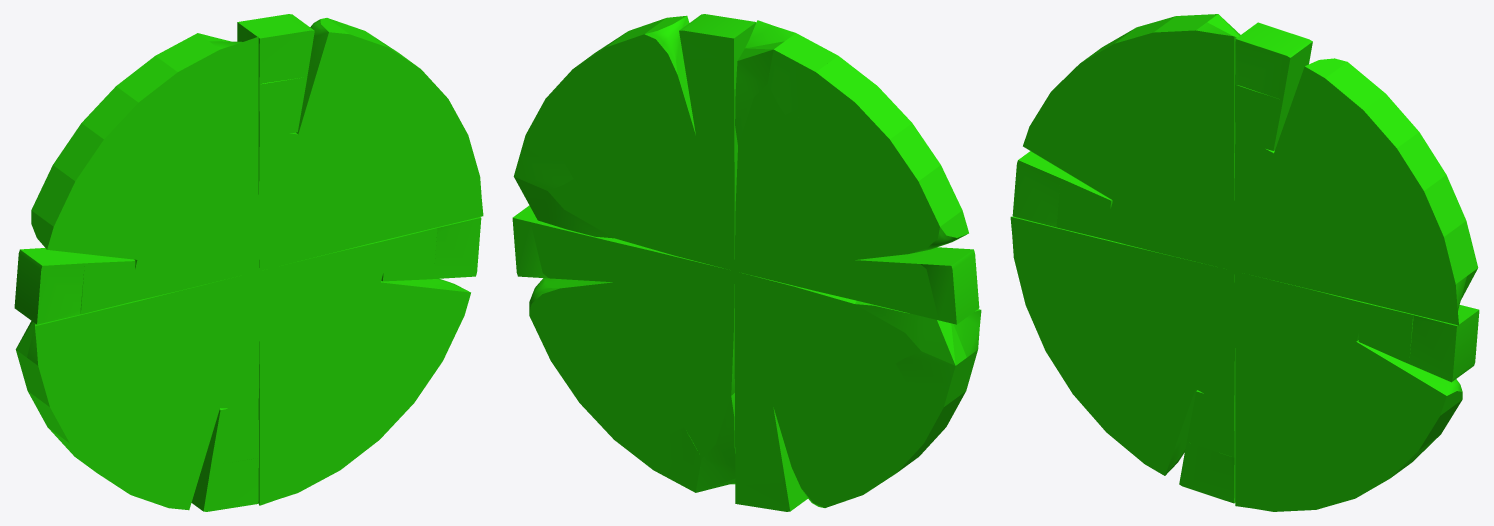
Rendered from diana_fbx_vr.fbx.
3 views of the same model, side by side, from view 1: azimuth 30°, elevation 25°; view 2: azimuth 150°, elevation 25°; view 3: azimuth 330°, elevation 25° (orthographic).
Visible parts, largest first — view 1: Cylinder.003, Cylinder.021, Cylinder.010, Cylinder.028, Cylinder.004, Cylinder.073, Cylinder.026, Cylinder.029, Cylinder.020, Cylinder.048, Cylinder.024, Cylinder.068 (+72 smaller); view 2: Cylinder.026, Cylinder.015, Cylinder.021, Cylinder.039, Cylinder.082, Cylinder.059, Cylinder.010, Cylinder.020, Cylinder.003, Cylinder.050, Cylinder.091, Cylinder.048 (+80 smaller); view 3: Cylinder.028, Cylinder.065, Cylinder.004, Cylinder.072, Cylinder.029, Cylinder.070, Cylinder.010, Cylinder.073, Cylinder.064, Cylinder.024, Cylinder.091, Cylinder.048 (+72 smaller).
Part boxes in pixels (x1,y1,x2,y2): Cylinder.003: [14, 248, 84, 324]; Cylinder.021: [53, 123, 161, 205]; Cylinder.010: [16, 298, 148, 365]; Cylinder.028: [237, 14, 314, 84]; Cylinder.004: [198, 33, 258, 159]; Cylinder.073: [258, 382, 297, 505]; Cylinder.026: [116, 56, 197, 133]; Cylinder.029: [369, 176, 483, 242]; Cylinder.020: [82, 86, 162, 157]; Cylinder.048: [58, 305, 187, 378]; Cylinder.024: [191, 70, 244, 203]; Cylinder.068: [330, 164, 459, 237]; Cylinder.026: [789, 56, 877, 151]; Cylinder.015: [855, 250, 938, 320]; Cylinder.021: [846, 123, 940, 200]; Cylinder.039: [735, 407, 791, 484]; Cylinder.082: [530, 220, 613, 282]; Cylinder.059: [684, 57, 738, 135]; Cylinder.010: [855, 301, 981, 365]; Cylinder.020: [838, 86, 911, 175]; Cylinder.003: [920, 247, 979, 324]; Cylinder.050: [861, 360, 965, 443]; Cylinder.091: [667, 339, 718, 458]; Cylinder.048: [806, 311, 920, 383]; Cylinder.028: [1235, 22, 1312, 100]; Cylinder.065: [1328, 94, 1418, 193]; Cylinder.004: [1196, 14, 1240, 153]; Cylinder.072: [1409, 305, 1479, 382]; Cylinder.029: [1345, 268, 1477, 325]; Cylinder.070: [1382, 175, 1466, 245]; Cylinder.010: [1010, 216, 1124, 264]; Cylinder.073: [1235, 388, 1273, 511]; Cylinder.064: [1367, 132, 1446, 205]; Cylinder.024: [1167, 52, 1220, 190]; Cylinder.091: [1249, 352, 1302, 489]; Cylinder.048: [1034, 259, 1163, 306].
Bounding box in the file's own units: 200 × 200 × 17.57.
